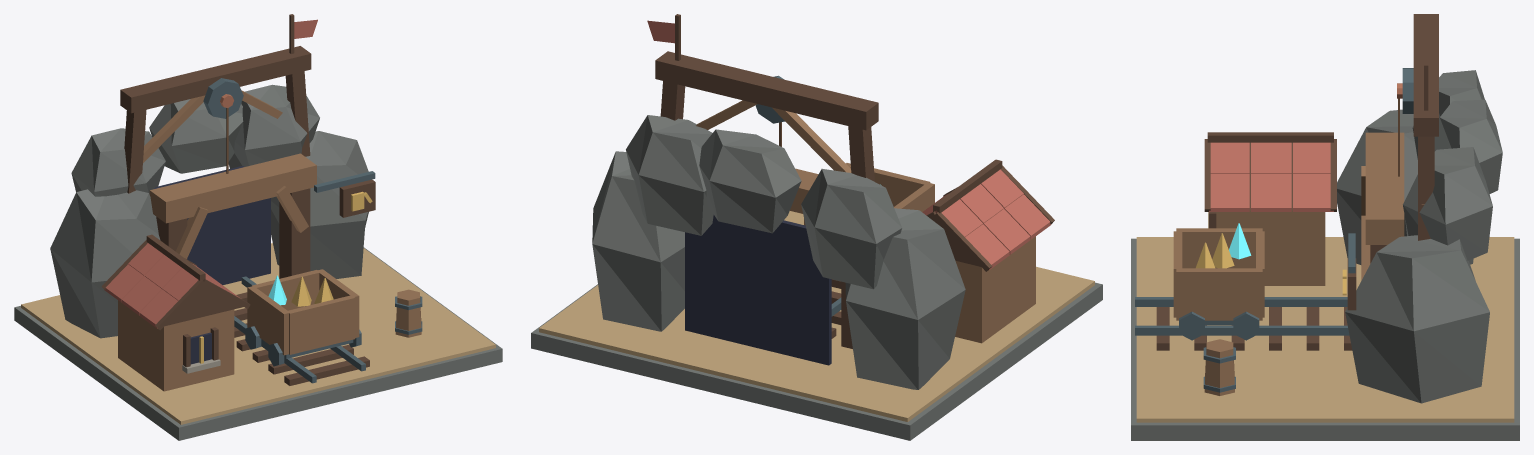
The model's file is ENV_Landmark_dwarves_LOD1.glb.
3 renders of one model, left to right at view 1: azimuth 30°, elevation 25°; view 2: azimuth 150°, elevation 25°; view 3: azimuth 270°, elevation 25°, orthographic. The views are drawn at different scales.
Parts seen in each view (by area): view 1: ENV_Landmark_dwarves_LOD1_s3-6_stoneDark, ENV_Landmark_dwarves_LOD1_s3-6_sand, ENV_Landmark_dwarves_LOD1_s3-6_woodLight, ENV_Landmark_dwarves_LOD1_s3-6_woodDark, ENV_Landmark_dwarves_LOD1_s4-6_woodLight, ENV_Landmark_dwarves_LOD1_s5-6_woodDark, ENV_Landmark_dwarves_LOD1_s3-6_ink, ENV_Landmark_dwarves_LOD1_s3-6_red, ENV_Landmark_dwarves_LOD1_s5-6_woodLight, ENV_Landmark_dwarves_LOD1_s4-6_iron, ENV_Landmark_dwarves_LOD1_s6-6_woodDark, ENV_Landmark_dwarves_LOD1_s5-6_iron (+3 smaller); view 2: ENV_Landmark_dwarves_LOD1_s3-6_stoneDark, ENV_Landmark_dwarves_LOD1_s3-6_sand, ENV_Landmark_dwarves_LOD1_s3-6_ink, ENV_Landmark_dwarves_LOD1_s5-6_woodDark, ENV_Landmark_dwarves_LOD1_s3-6_woodLight, ENV_Landmark_dwarves_LOD1_s3-6_red, ENV_Landmark_dwarves_LOD1_s3-6_woodDark, ENV_Landmark_dwarves_LOD1_s5-6_woodLight, ENV_Landmark_dwarves_LOD1_s4-6_woodLight; view 3: ENV_Landmark_dwarves_LOD1_s3-6_stoneDark, ENV_Landmark_dwarves_LOD1_s3-6_sand, ENV_Landmark_dwarves_LOD1_s3-6_woodLight, ENV_Landmark_dwarves_LOD1_s4-6_woodLight, ENV_Landmark_dwarves_LOD1_s3-6_red, ENV_Landmark_dwarves_LOD1_s3-6_woodDark, ENV_Landmark_dwarves_LOD1_s5-6_woodDark, ENV_Landmark_dwarves_LOD1_s3-6_iron, ENV_Landmark_dwarves_LOD1_s4-6_iron, ENV_Landmark_dwarves_LOD1_s4-6_gold, ENV_Landmark_dwarves_LOD1_s6-6_woodDark, ENV_Landmark_dwarves_LOD1_s5-6_iron (+1 smaller).
Boxes of the visible parts, left/top/right/bottom form: ENV_Landmark_dwarves_LOD1_s3-6_stoneDark: left=14, top=84, right=502, bottom=440; ENV_Landmark_dwarves_LOD1_s3-6_sand: left=21, top=243, right=495, bottom=424; ENV_Landmark_dwarves_LOD1_s3-6_woodLight: left=118, top=153, right=316, bottom=391; ENV_Landmark_dwarves_LOD1_s3-6_woodDark: left=101, top=188, right=369, bottom=385; ENV_Landmark_dwarves_LOD1_s4-6_woodLight: left=247, top=269, right=421, bottom=355; ENV_Landmark_dwarves_LOD1_s5-6_woodDark: left=120, top=46, right=311, bottom=193; ENV_Landmark_dwarves_LOD1_s3-6_ink: left=154, top=166, right=270, bottom=364; ENV_Landmark_dwarves_LOD1_s3-6_red: left=104, top=243, right=240, bottom=328; ENV_Landmark_dwarves_LOD1_s5-6_woodLight: left=143, top=90, right=282, bottom=162; ENV_Landmark_dwarves_LOD1_s4-6_iron: left=245, top=296, right=422, bottom=366; ENV_Landmark_dwarves_LOD1_s6-6_woodDark: left=289, top=14, right=375, bottom=217; ENV_Landmark_dwarves_LOD1_s5-6_iron: left=203, top=78, right=243, bottom=118; ENV_Landmark_dwarves_LOD1_s3-6_stoneDark: left=531, top=115, right=1102, bottom=440; ENV_Landmark_dwarves_LOD1_s3-6_sand: left=539, top=211, right=1094, bottom=421; ENV_Landmark_dwarves_LOD1_s3-6_ink: left=685, top=215, right=831, bottom=365; ENV_Landmark_dwarves_LOD1_s5-6_woodDark: left=655, top=51, right=878, bottom=181; ENV_Landmark_dwarves_LOD1_s3-6_woodLight: left=790, top=168, right=1035, bottom=343; ENV_Landmark_dwarves_LOD1_s3-6_red: left=922, top=169, right=1051, bottom=269; ENV_Landmark_dwarves_LOD1_s3-6_woodDark: left=831, top=159, right=1054, bottom=348; ENV_Landmark_dwarves_LOD1_s5-6_woodLight: left=696, top=100, right=851, bottom=172; ENV_Landmark_dwarves_LOD1_s4-6_woodLight: left=804, top=163, right=934, bottom=225; ENV_Landmark_dwarves_LOD1_s3-6_stoneDark: left=1131, top=70, right=1519, bottom=440; ENV_Landmark_dwarves_LOD1_s3-6_sand: left=1136, top=237, right=1514, bottom=422; ENV_Landmark_dwarves_LOD1_s3-6_woodLight: left=1216, top=132, right=1404, bottom=285; ENV_Landmark_dwarves_LOD1_s4-6_woodLight: left=1173, top=228, right=1264, bottom=395; ENV_Landmark_dwarves_LOD1_s3-6_red: left=1209, top=142, right=1333, bottom=211; ENV_Landmark_dwarves_LOD1_s3-6_woodDark: left=1156, top=132, right=1386, bottom=350; ENV_Landmark_dwarves_LOD1_s5-6_woodDark: left=1413, top=14, right=1438, bottom=240; ENV_Landmark_dwarves_LOD1_s3-6_iron: left=1135, top=297, right=1349, bottom=335; ENV_Landmark_dwarves_LOD1_s4-6_iron: left=1179, top=311, right=1259, bottom=392; ENV_Landmark_dwarves_LOD1_s4-6_gold: left=1196, top=233, right=1234, bottom=268; ENV_Landmark_dwarves_LOD1_s6-6_woodDark: left=1347, top=63, right=1428, bottom=310; ENV_Landmark_dwarves_LOD1_s5-6_iron: left=1402, top=68, right=1413, bottom=113.
Size of the model in its own units: 9.2 by 7.51 by 8.1.
